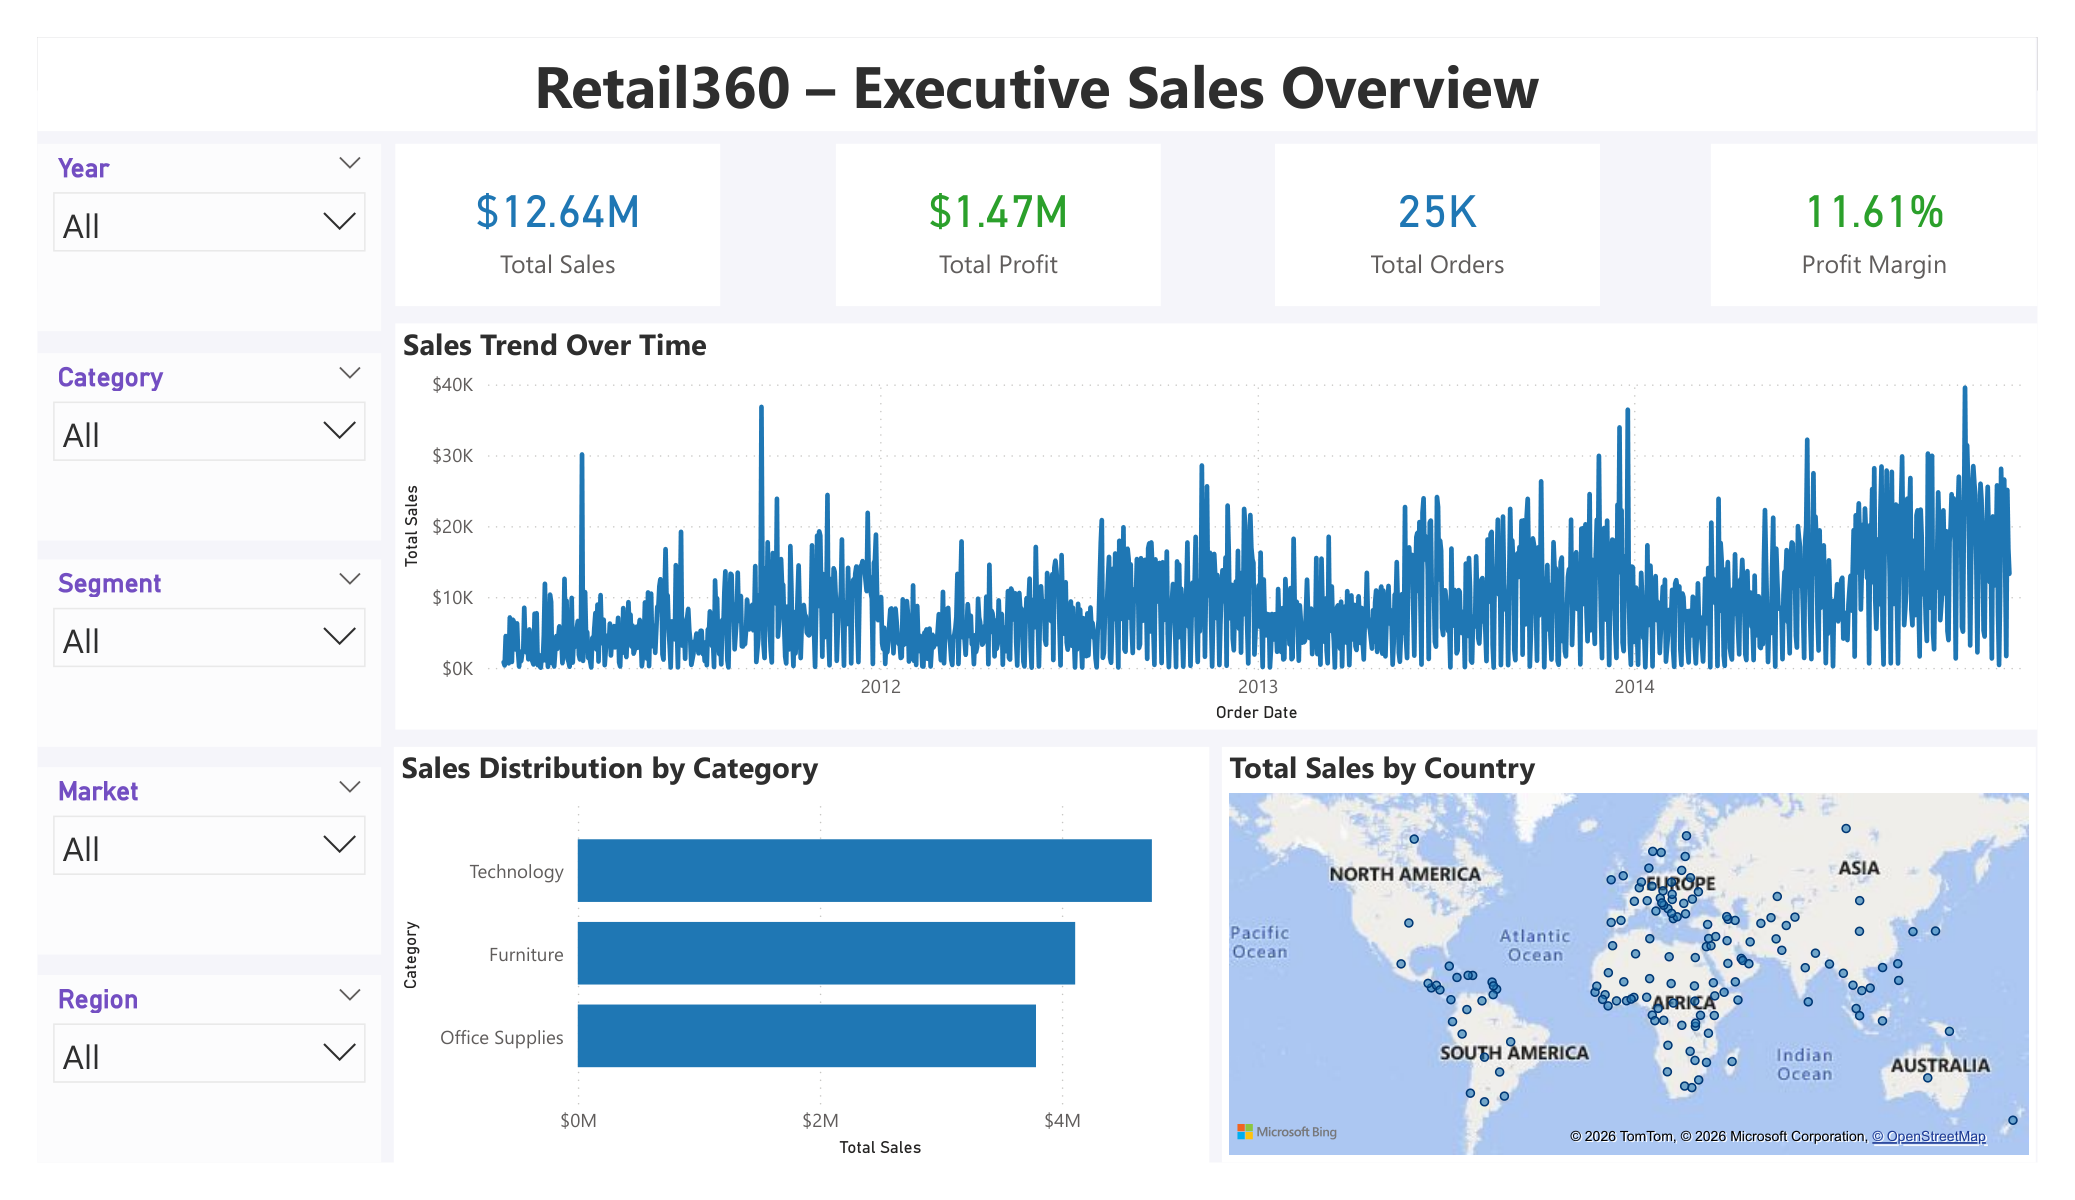

This screenshot's page, from the dashboard's own definition file:
{"tool":"powerbi","page":{"name":"Executive Overview","canvas":[1280,720],"ordinal":0},"visuals":[{"type":"card","fields":{"Values":["DateTable.Total Sales"]},"box":[228.7,68.5,207.9,103.9],"z":0},{"type":"card","fields":{"Values":["DateTable.Total Profit"]},"box":[511.1,68.5,207.9,103.9],"z":1000},{"type":"card","fields":{"Values":["DateTable.Total Orders"]},"box":[792.4,68.5,207.9,103.9],"z":2000},{"type":"map","fields":{"Category":["Global_Superstore2.Country"]},"box":[758.2,453.7,520.9,266.6],"z":3000},{"type":"card","fields":{"Values":["DateTable.Profit Margin"]},"box":[1071.2,68.5,209.1,103.9],"z":4000},{"type":"lineChart","title":"Sales Trend Over Time","fields":{"Category":["Global_Superstore2.Order Date"],"Y":["DateTable.Total Sales"]},"box":[228.7,183.4,1051.6,259.2],"z":5000},{"type":"clusteredBarChart","title":"Sales Distribution by Category","fields":{"Category":["Global_Superstore2.Category"],"Y":["DateTable.Total Sales"]},"box":[228.2,453.6,521.7,267.1],"z":6000},{"type":"textbox","box":[0,0,1279.1,59.9],"z":8000},{"type":"slicer","fields":{"Values":["Global_Superstore2.Region"]},"box":[0,600.4,220.1,119.8],"z":9000},{"type":"slicer","fields":{"Values":["Global_Superstore2.Category"]},"box":[0,201.8,220.1,119.8],"z":10000},{"type":"slicer","fields":{"Values":["Global_Superstore2.Segment"]},"box":[0,333.8,220.1,119.8],"z":11000},{"type":"slicer","fields":{"Values":["Global_Superstore2.Market"]},"box":[0,467.1,220.1,119.8],"z":12000},{"type":"slicer","fields":{"Values":["DateTable.Year"]},"box":[0,68.3,220,120],"z":13000}]}

Visuals, with their boxes on the page's 1280x720 design canvas (x1, y1, x2, y2). These are canvas units, not pixel positions in the 2075x1200 screenshot, which may show the page scaled, cropped or inside an application window:
card - DateTable.Total Sales: crop(229, 68, 437, 172)
card - DateTable.Total Profit: crop(511, 68, 719, 172)
card - DateTable.Total Orders: crop(792, 68, 1000, 172)
map - Global_Superstore2.Country: crop(758, 454, 1279, 720)
card - DateTable.Profit Margin: crop(1071, 68, 1280, 172)
"Sales Trend Over Time" lineChart: crop(229, 183, 1280, 443)
"Sales Distribution by Category" clusteredBarChart: crop(228, 454, 750, 721)
textbox: crop(0, 0, 1279, 60)
slicer - Global_Superstore2.Region: crop(0, 600, 220, 720)
slicer - Global_Superstore2.Category: crop(0, 202, 220, 322)
slicer - Global_Superstore2.Segment: crop(0, 334, 220, 454)
slicer - Global_Superstore2.Market: crop(0, 467, 220, 587)
slicer - DateTable.Year: crop(0, 68, 220, 188)
